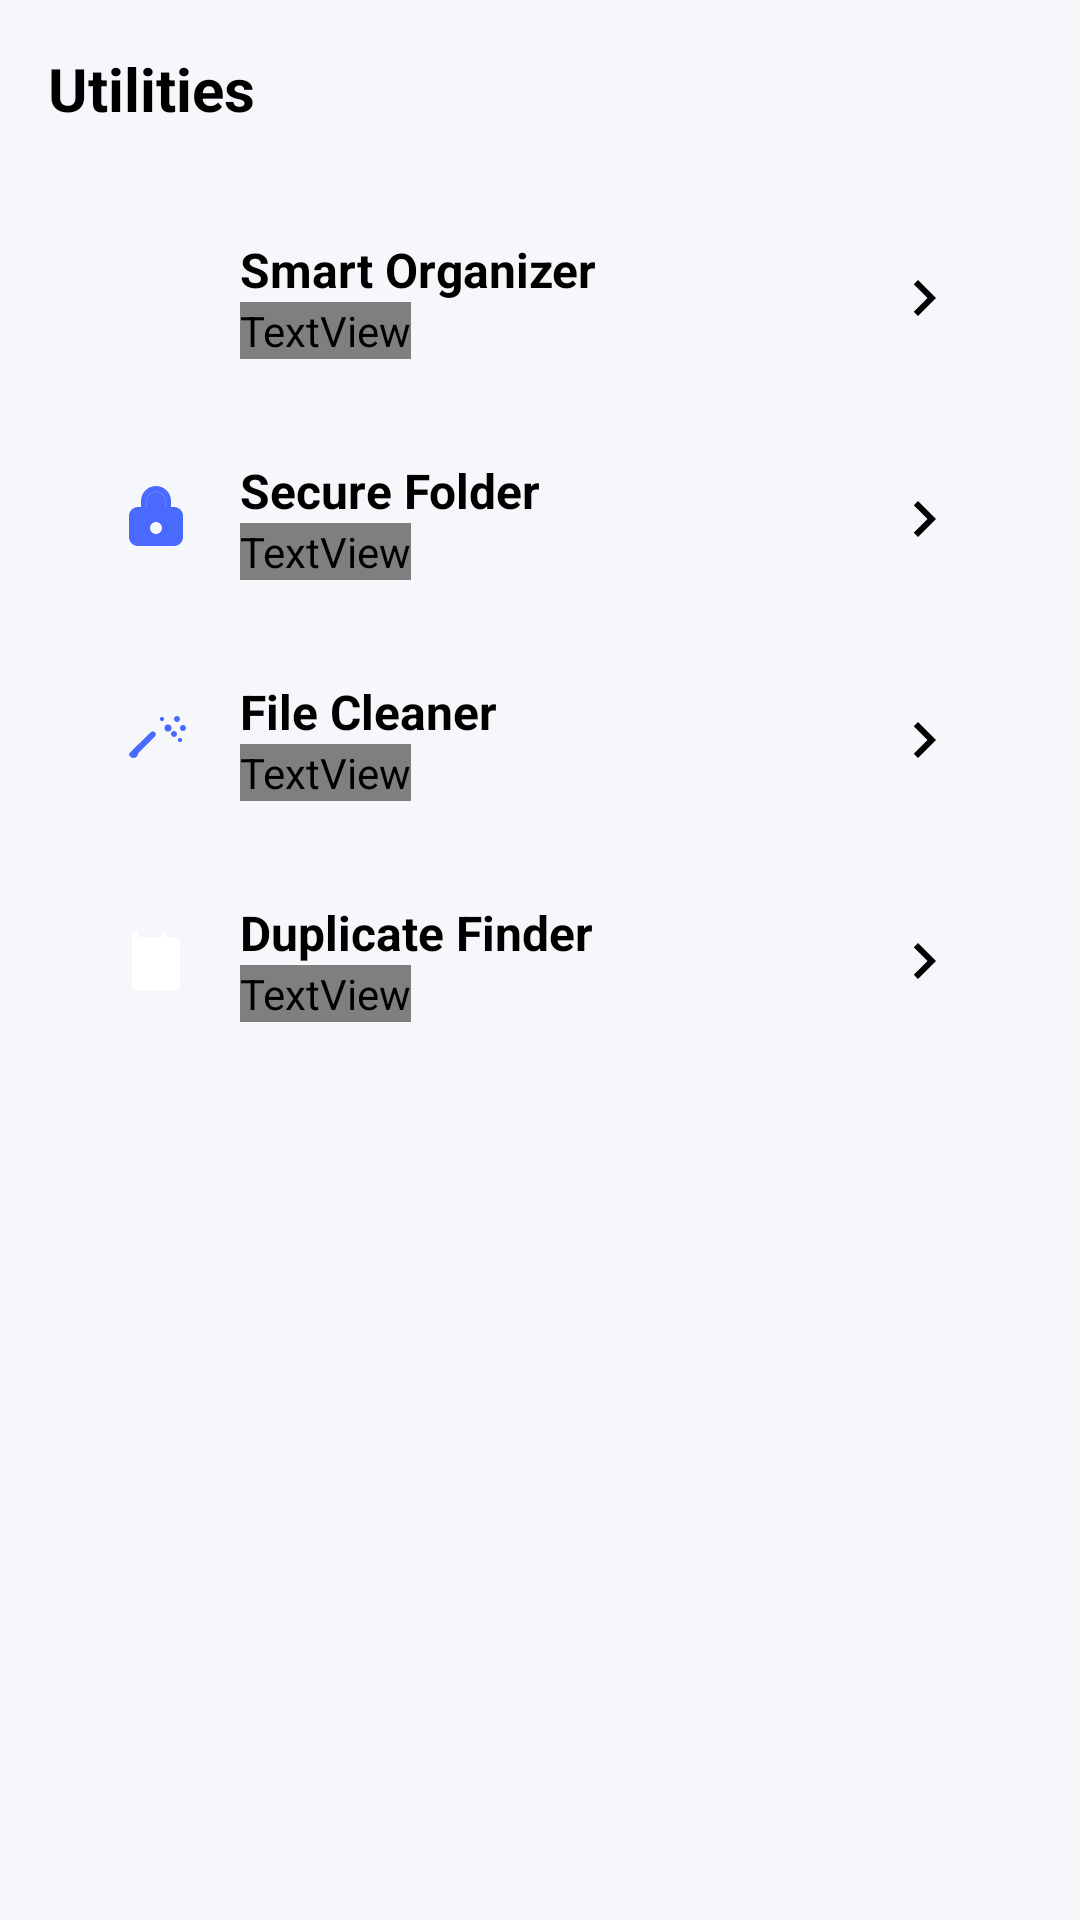

Locate icon controls on the screen. Image size 1080x1920, boxes as (x1, y1, x2, y2).
arrow right: (914, 280, 936, 316), (914, 501, 936, 537), (914, 722, 936, 758), (914, 943, 936, 979)
